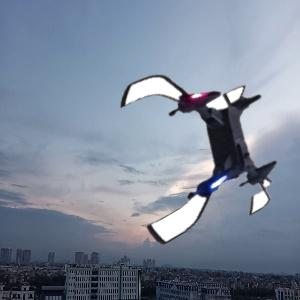drone: (105, 56, 288, 239)
